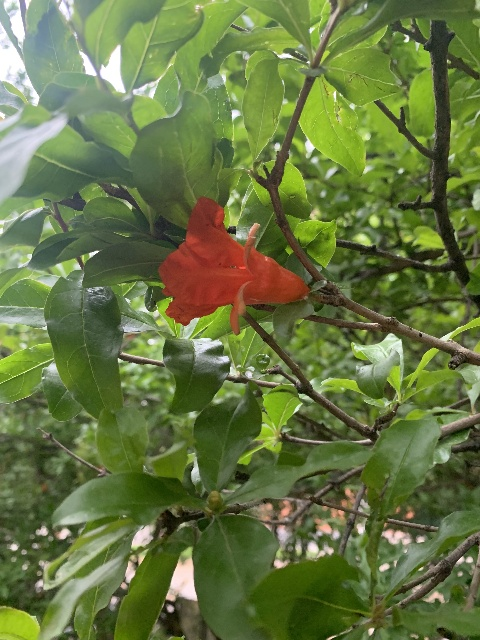flower: (158, 196, 308, 334)
